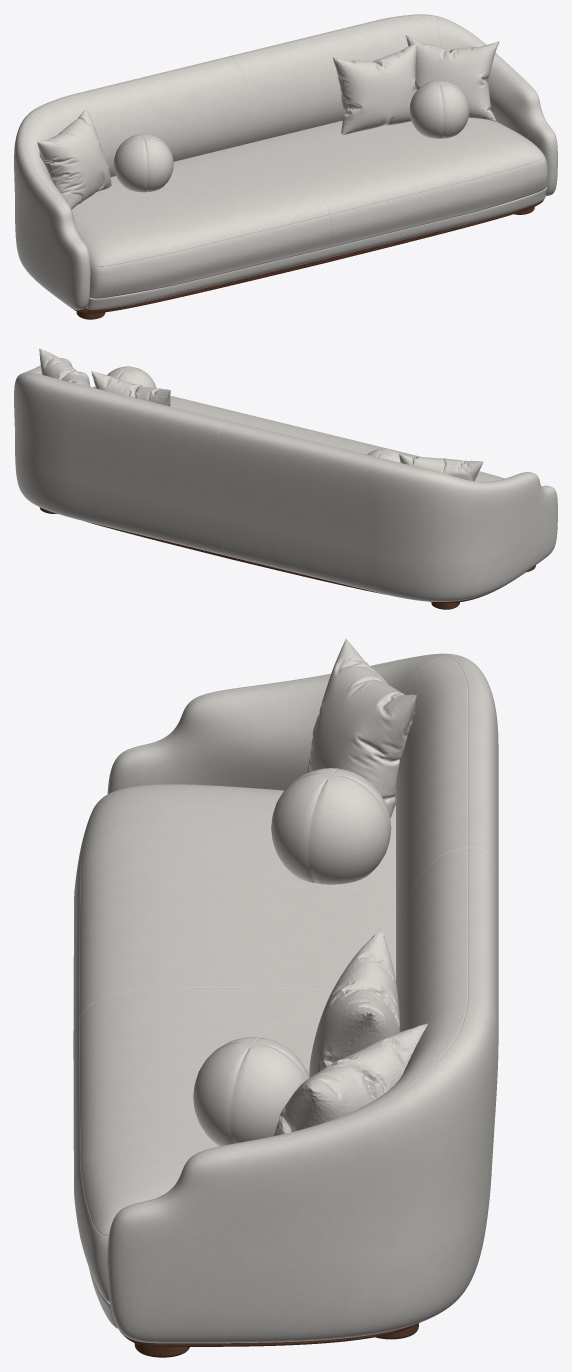
Rendered from Hamilton-Sofa-Larforma.glb.
The picture shows the model from 3 angles, top to bottom: view 1: azimuth 30°, elevation 25°; view 2: azimuth 150°, elevation 25°; view 3: azimuth 270°, elevation 25°; orthographic projection. The views are drawn at different scales.
Visible parts, largest first — view 1: Costa.003, Cushions.007; view 2: Costa.003, Cushions.007; view 3: Costa.003, Cushions.007.
Part boxes in pixels (x1=…): Costa.003: x1=14, y1=14, x2=557, y2=319; Cushions.007: x1=37, y1=35, x2=499, y2=209; Costa.003: x1=14, y1=358, x2=557, y2=609; Cushions.007: x1=39, y1=348, x2=483, y2=480; Costa.003: x1=73, y1=653, x2=498, y2=1357; Cushions.007: x1=273, y1=638, x2=427, y2=1135.
Size of the model in its own units: 2.31 by 0.6703 by 0.874.
Materials: 2 (2 with a texture image).
